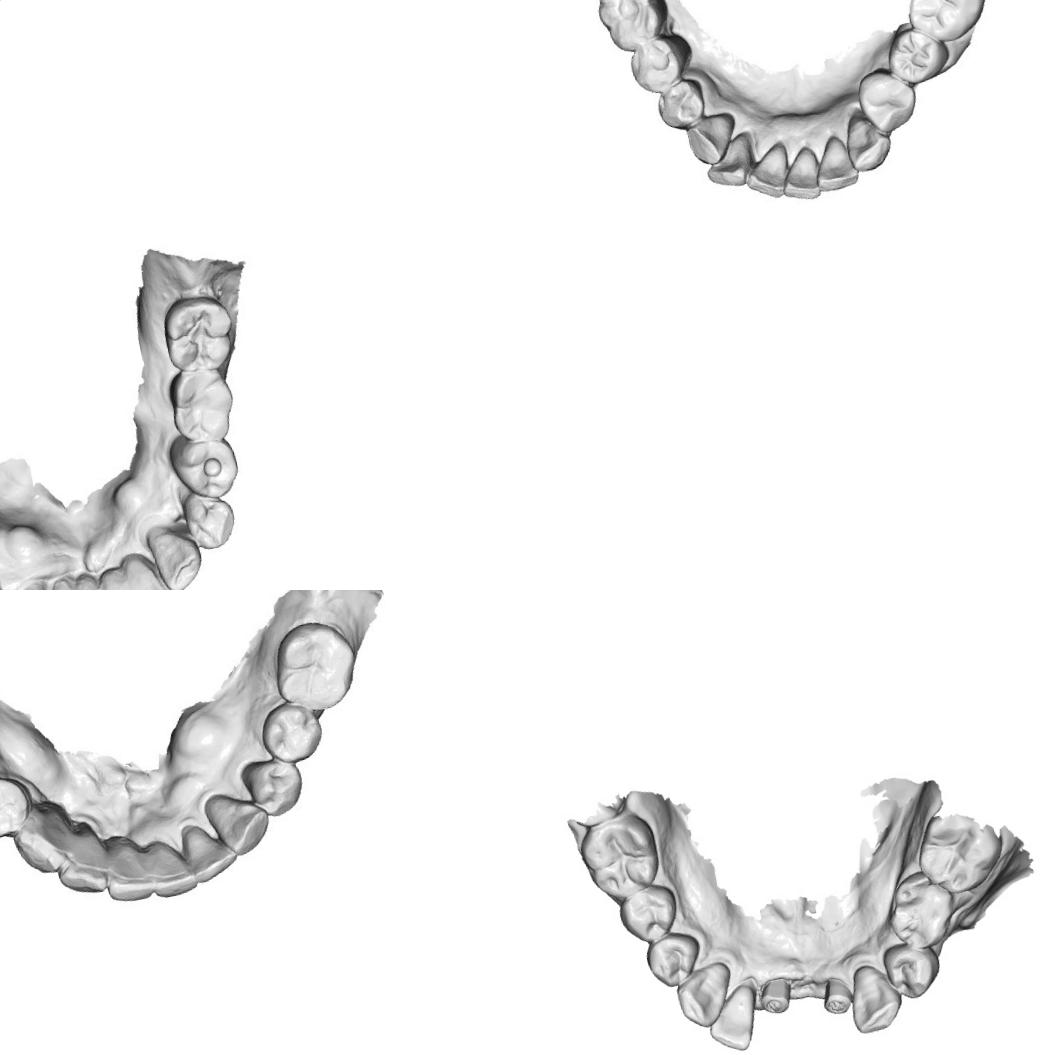canine: (8, 798, 76, 880), (841, 958, 909, 1036), (670, 958, 740, 1032), (204, 785, 270, 854), (148, 519, 207, 590), (682, 111, 742, 169), (841, 110, 894, 175)
implant: (814, 970, 856, 1018), (753, 972, 796, 1018)
incisor: (50, 816, 118, 892), (700, 982, 765, 1055), (104, 834, 160, 902), (178, 816, 236, 880), (698, 133, 760, 192), (145, 840, 199, 904), (808, 134, 860, 197), (738, 144, 792, 204), (775, 146, 826, 208), (121, 546, 188, 590), (100, 559, 156, 590), (70, 566, 124, 590), (34, 571, 94, 590)
molar: (909, 803, 1009, 900), (266, 619, 361, 714), (572, 808, 666, 904), (876, 864, 962, 955), (158, 296, 233, 378), (167, 362, 240, 442), (894, 0, 999, 47), (590, 0, 668, 53)
premolar: (621, 26, 698, 97), (852, 63, 923, 139), (173, 429, 244, 500), (878, 18, 950, 88), (242, 752, 313, 822), (612, 880, 684, 948), (878, 936, 946, 1004), (179, 480, 240, 550), (642, 928, 708, 992), (257, 702, 321, 762), (648, 77, 712, 135), (0, 772, 24, 838)
